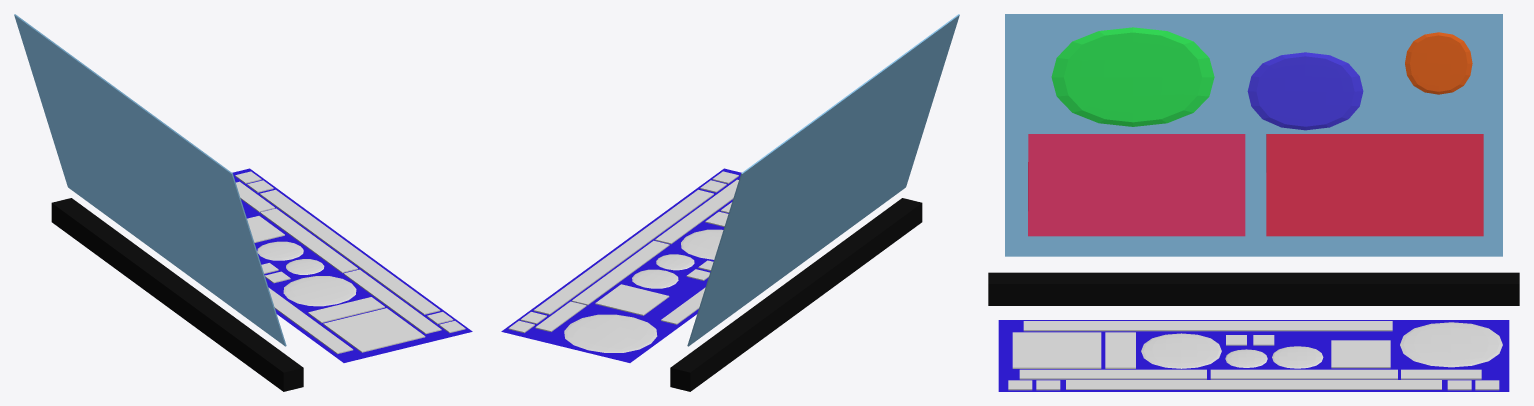
The model's file is futuristicComp.fbx.
The picture shows the model from 3 angles, left to right: view 1: azimuth 30°, elevation 25°; view 2: azimuth 150°, elevation 25°; view 3: azimuth 270°, elevation 25°; orthographic projection. The views are drawn at different scales.
Parts seen in each view (by area): view 1: Plane, Cube, Plane.006, Cube.001, Cube.009, Cube.011, Cube.006, Cube.007, Cube.016, Cube.010, Cube.013, Cube.015 (+2 smaller); view 2: Plane, Cube, Plane.006, Cube.001, Cube.014, Cube.007, Cube.015, Cube.006, Cube.011, Cube.013, Cube.008, Cube.016 (+1 smaller); view 3: Plane, Plane.002, Plane.001, Cube, Plane.003, Plane.006, Plane.004, Cube.016, Cube.001, Cube.014, Plane.005, Cube.009 (+8 smaller).
Boxes of the visible parts, x1,y1,x2,y2 form: Plane: (14,14,286,346); Cube: (51,198,303,391); Plane.006: (232,168,472,362); Cube.001: (260,189,440,314); Cube.009: (323,308,425,352); Cube.011: (283,276,356,306); Cube.006: (343,269,441,334); Cube.007: (260,208,357,273); Cube.016: (268,287,353,353); Cube.010: (308,297,384,323); Cube.013: (257,241,303,260); Cube.015: (247,216,284,242); Plane: (687,14,959,346); Cube: (670,198,922,391); Plane.006: (501,168,741,362); Cube.001: (533,189,713,314); Cube.014: (564,314,657,352); Cube.007: (572,240,669,305); Cube.015: (595,284,669,315); Cube.006: (655,179,738,244); Cube.011: (681,229,723,259); Cube.013: (632,269,678,288); Cube.008: (535,301,586,331); Cube.016: (661,287,705,324); Plane: (1005,14,1502,256); Plane.002: (1266,134,1483,236); Plane.001: (1028,134,1245,236); Cube: (988,272,1519,305); Plane.003: (1051,27,1214,126); Plane.006: (998,320,1509,391); Plane.004: (1247,52,1363,130); Cube.016: (1023,321,1392,331); Cube.001: (1066,380,1441,389); Cube.014: (1400,322,1502,367); Plane.005: (1405,32,1472,94); Cube.009: (1012,332,1101,368).
Bounding box in the file's own units: 808 × 725 × 1362.
